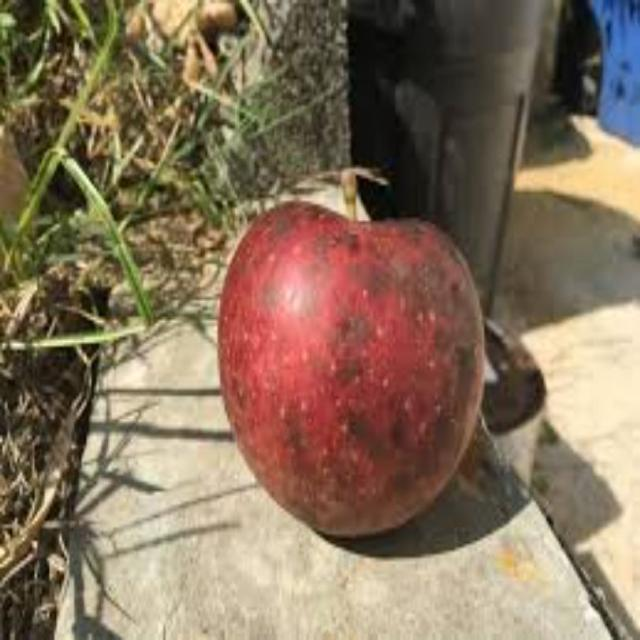Rotten Apple: (199, 152, 528, 556)
